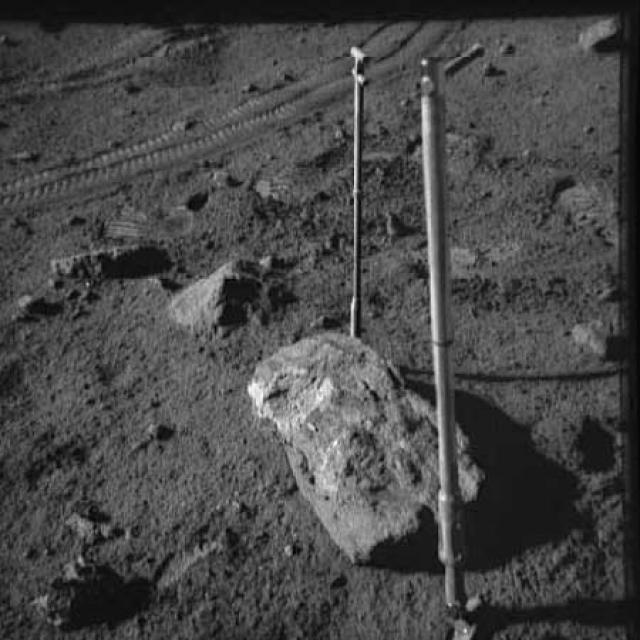crater: (536, 401, 620, 492)
rock: (239, 324, 488, 567), (178, 245, 288, 338), (30, 550, 126, 628), (46, 234, 163, 284), (63, 494, 126, 545), (570, 313, 609, 358), (570, 17, 619, 52), (10, 286, 62, 318), (382, 202, 412, 244), (135, 419, 169, 448), (212, 168, 243, 190), (476, 60, 506, 76), (497, 37, 522, 55)
